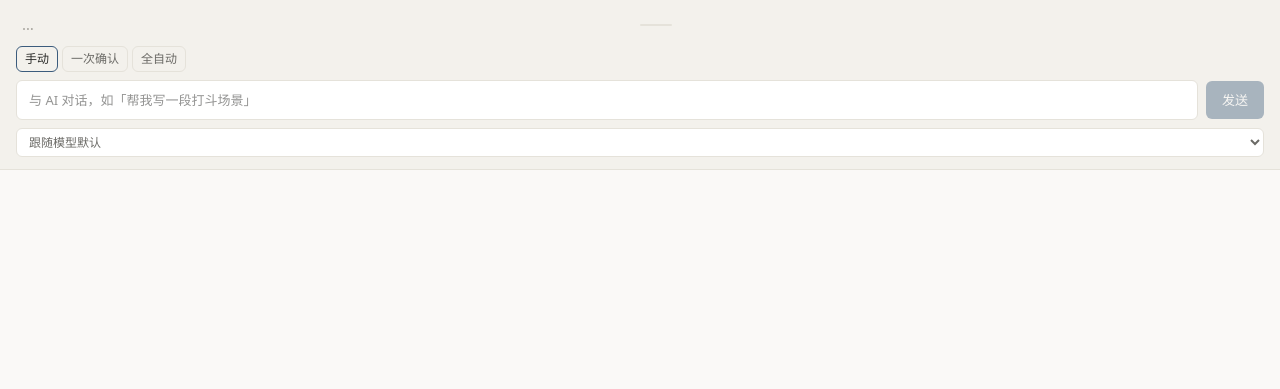
Test case: ChatPanel — 管线帧与 chat 帧区分渲染（#681） › chat 帧（streamChat 路径）仍正常渲染 AI 消息并落库（#681 回归不破 chat 基线）
The width and height of the screenshot is (1280, 389).
In the text box with test id "chat-input": (607, 100) [16,80,1198,120], type "正常对话"
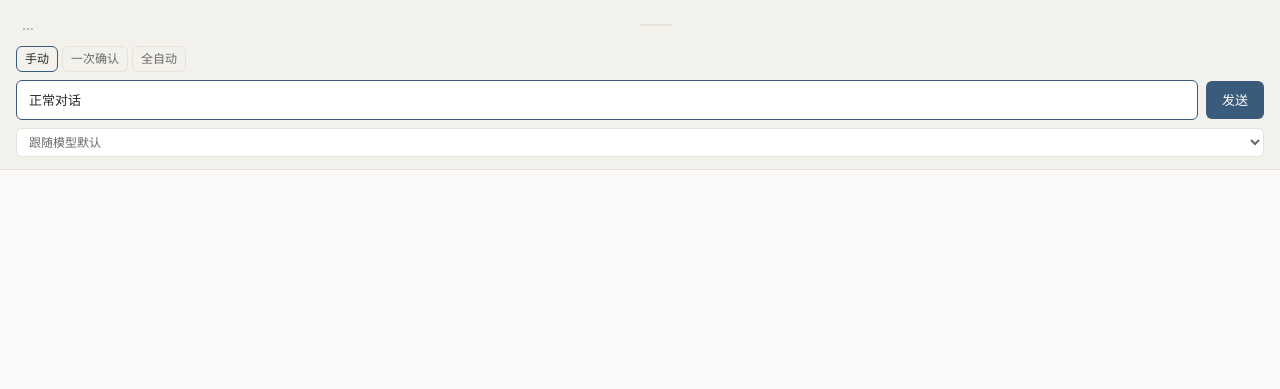
Click the button with test id "chat-send": (1235, 100) [1206,81,1264,119]
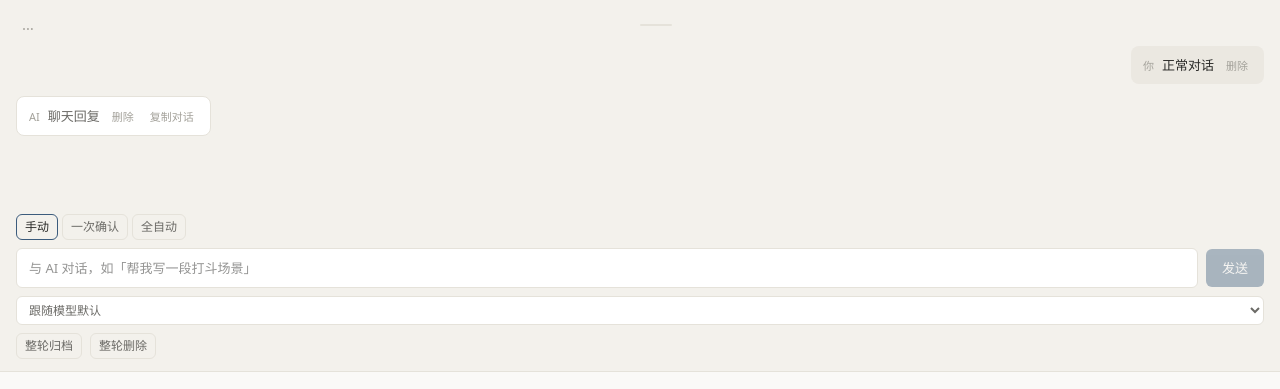
Result: the element with test id "chat-msg-ai-0" shows "聊天回复" at [48,107,100,125]
